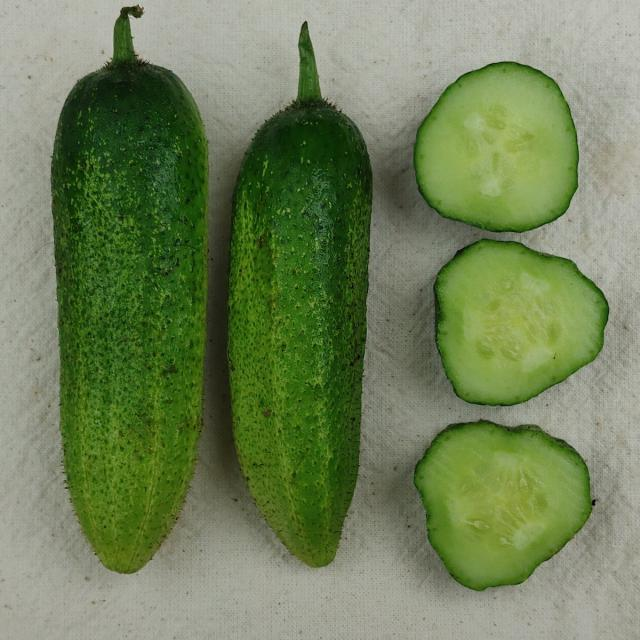Pickle: (51, 6, 208, 572), (228, 22, 372, 567), (415, 420, 592, 590), (435, 239, 609, 404), (414, 62, 578, 232)
